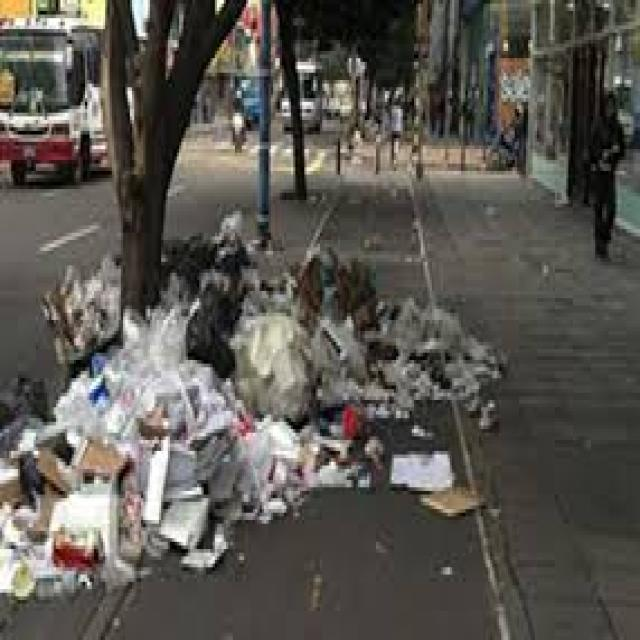garbage: (0, 214, 505, 610)
